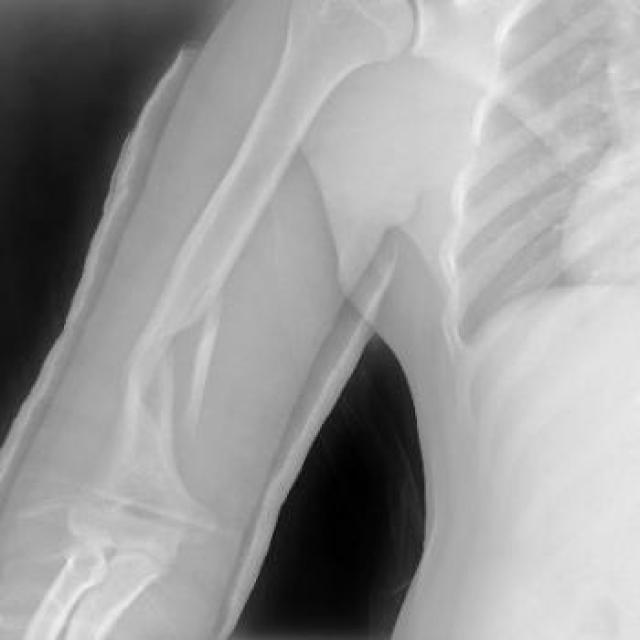Fracture: (105, 280, 252, 456)
